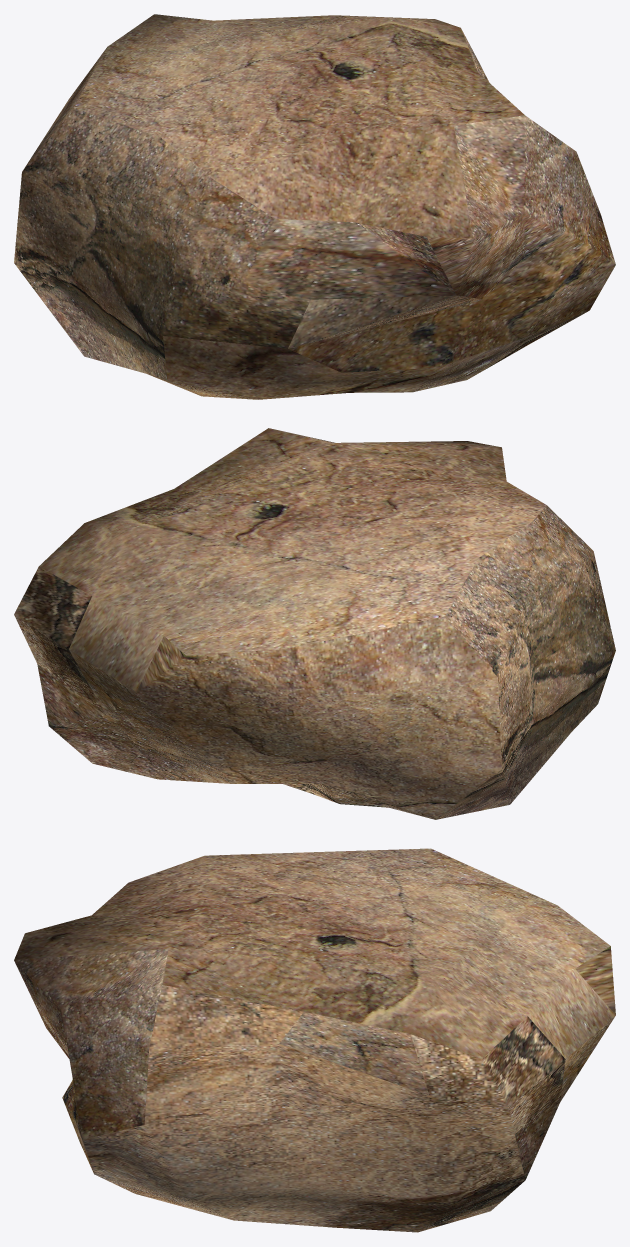
Rendered from Rock1.obj.
The picture shows the model from 3 angles, top to bottom: view 1: azimuth 30°, elevation 25°; view 2: azimuth 150°, elevation 25°; view 3: azimuth 270°, elevation 25°; orthographic projection.
Parts seen in each view (by area): view 1: Cube.001; view 2: Cube.001; view 3: Cube.001.
Part boxes in pixels (x1,y1,x2,y2): Cube.001: (14, 14, 615, 399); Cube.001: (14, 428, 615, 819); Cube.001: (14, 848, 615, 1232).
Bounding box in the file's own units: 3.18 × 1.68 × 3.63.
Materials: 1 (1 with a texture image).
